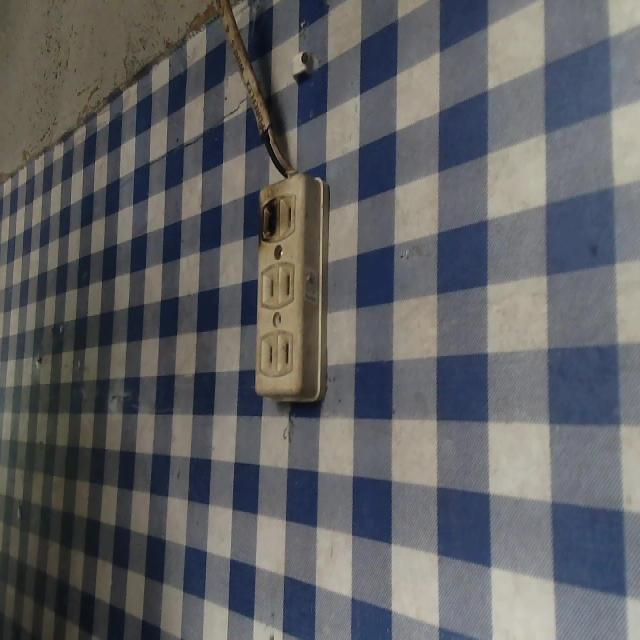-: (257, 197, 282, 240)
